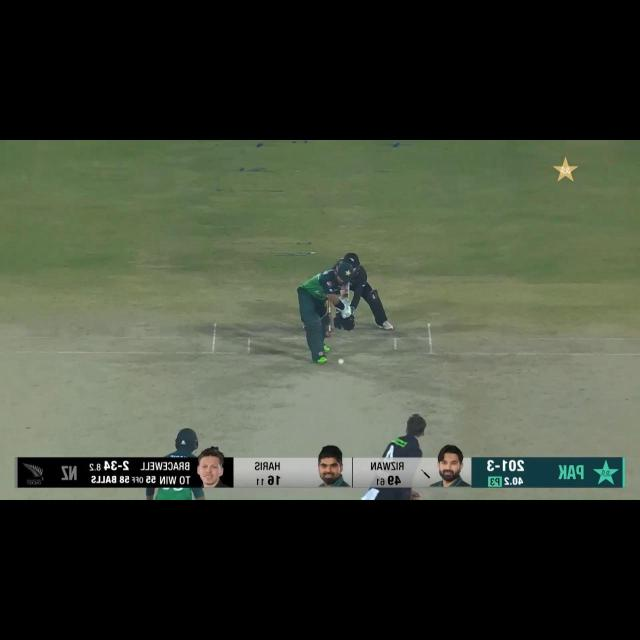bat: (340, 285, 350, 300)
